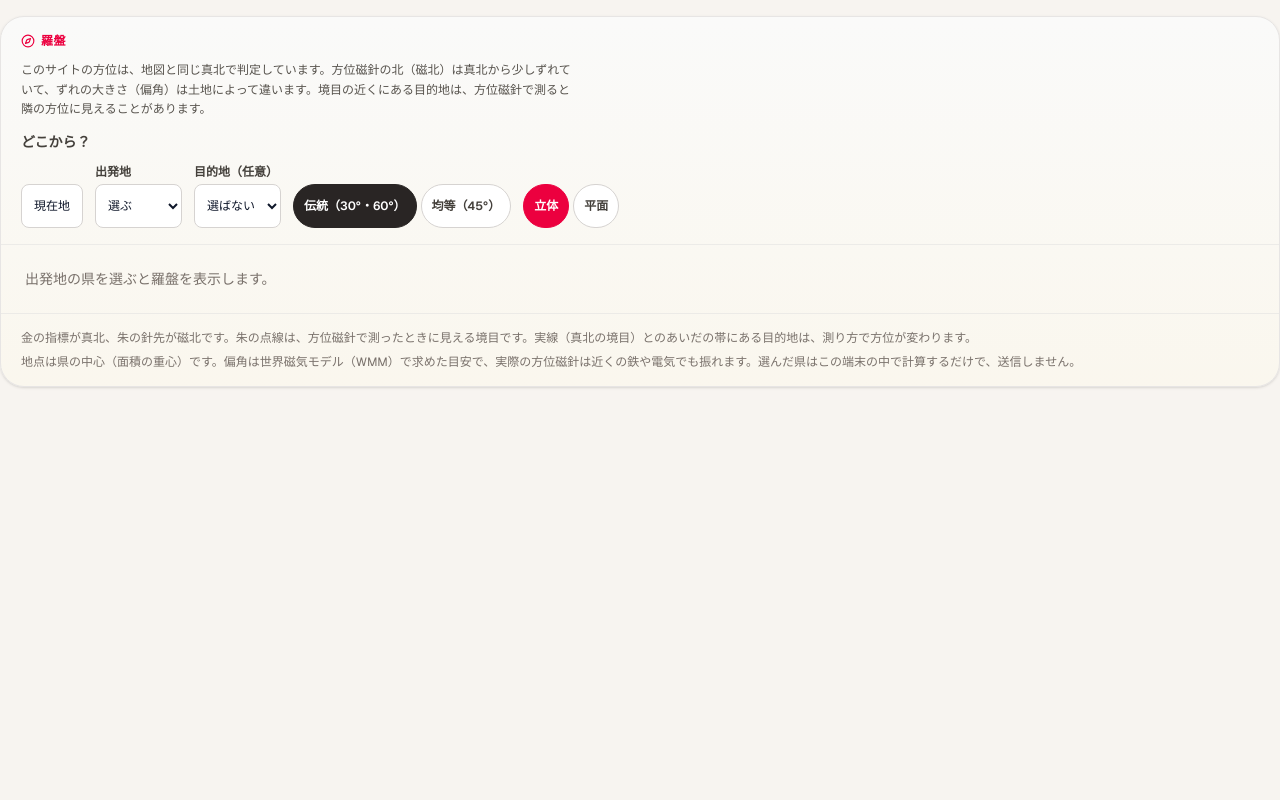
羅盤 › 未登録では質問を表示し、選択するまで計算しない
Expected: the text "どこから？" is shown, [21, 132, 91, 150]
Select "愛知県" in the dropdown labelled "出発地" at x=138, y=206, box [95, 184, 182, 228]
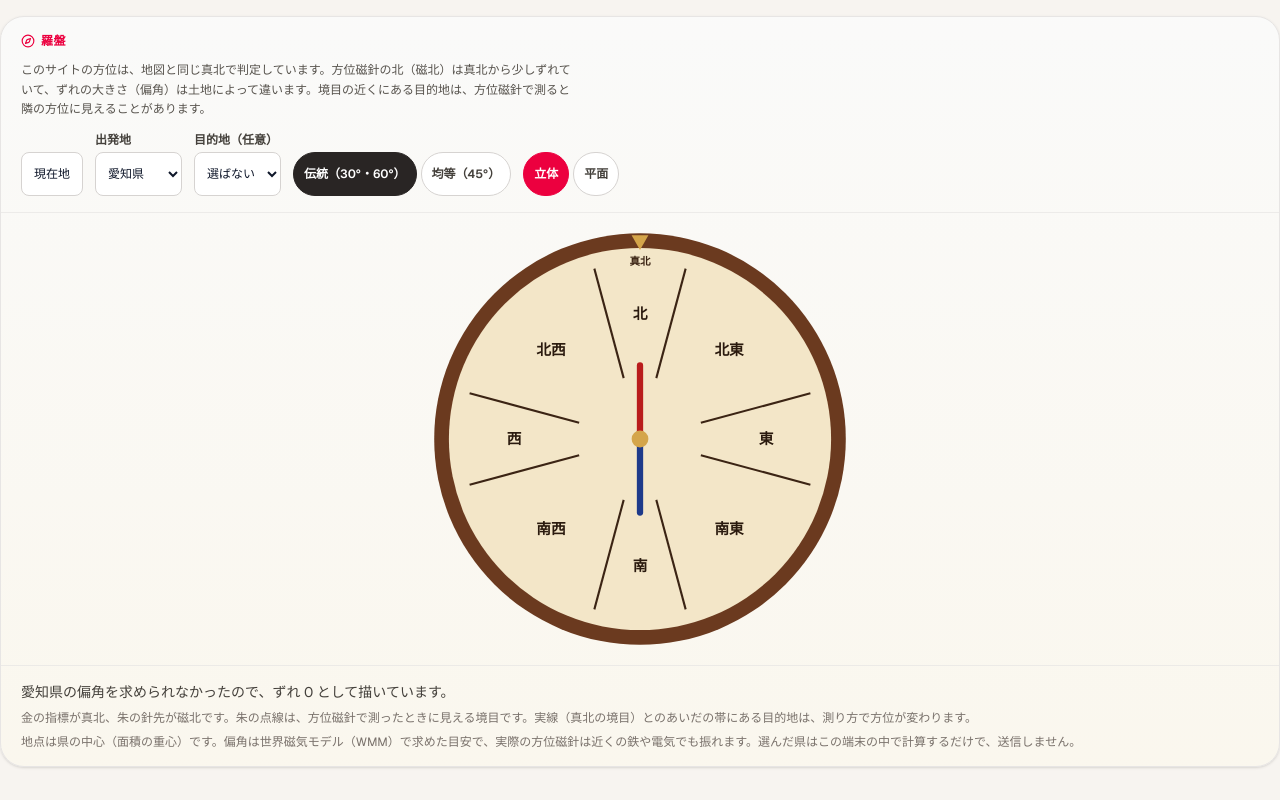
Result: the text "どこから？" is gone
